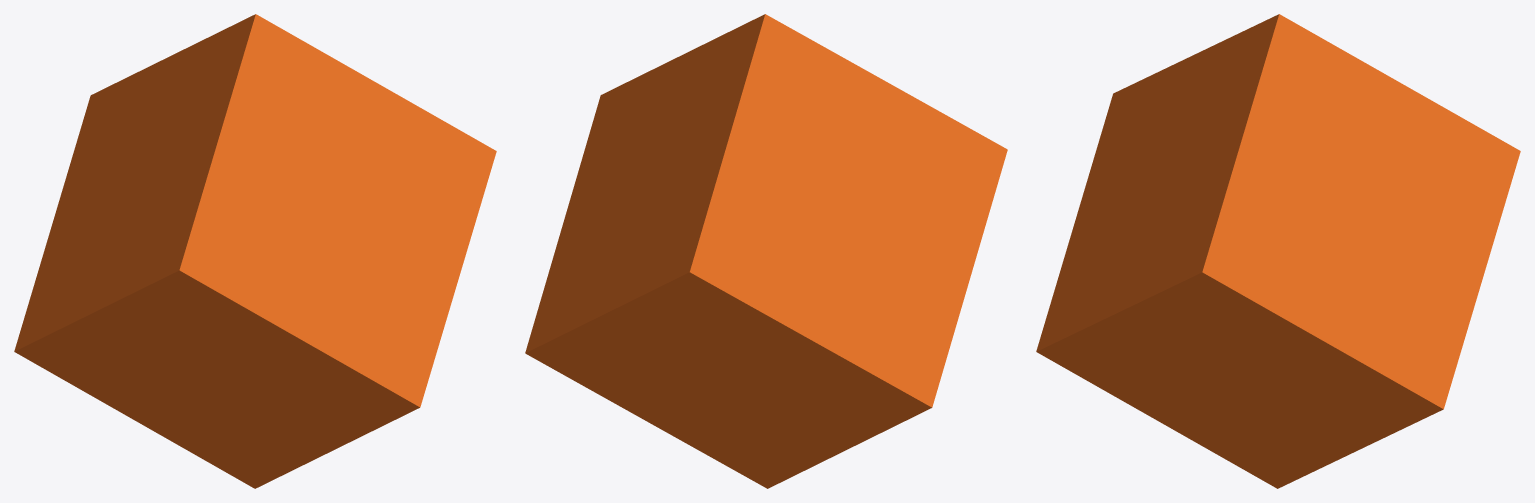
Rendered from 旋转方块.fbx.
3 views of the same model, side by side, from view 1: azimuth 30°, elevation 25°; view 2: azimuth 150°, elevation 25°; view 3: azimuth 270°, elevation 25° (orthographic).
Visible parts, largest first — view 1: Cube; view 2: Cube; view 3: Cube.
Part boxes in pixels (x1,y1,x2,y2): Cube: (14, 14, 496, 488); Cube: (525, 14, 1007, 488); Cube: (1036, 14, 1520, 488).
Bounding box in the file's own units: 311 × 320 × 346.
